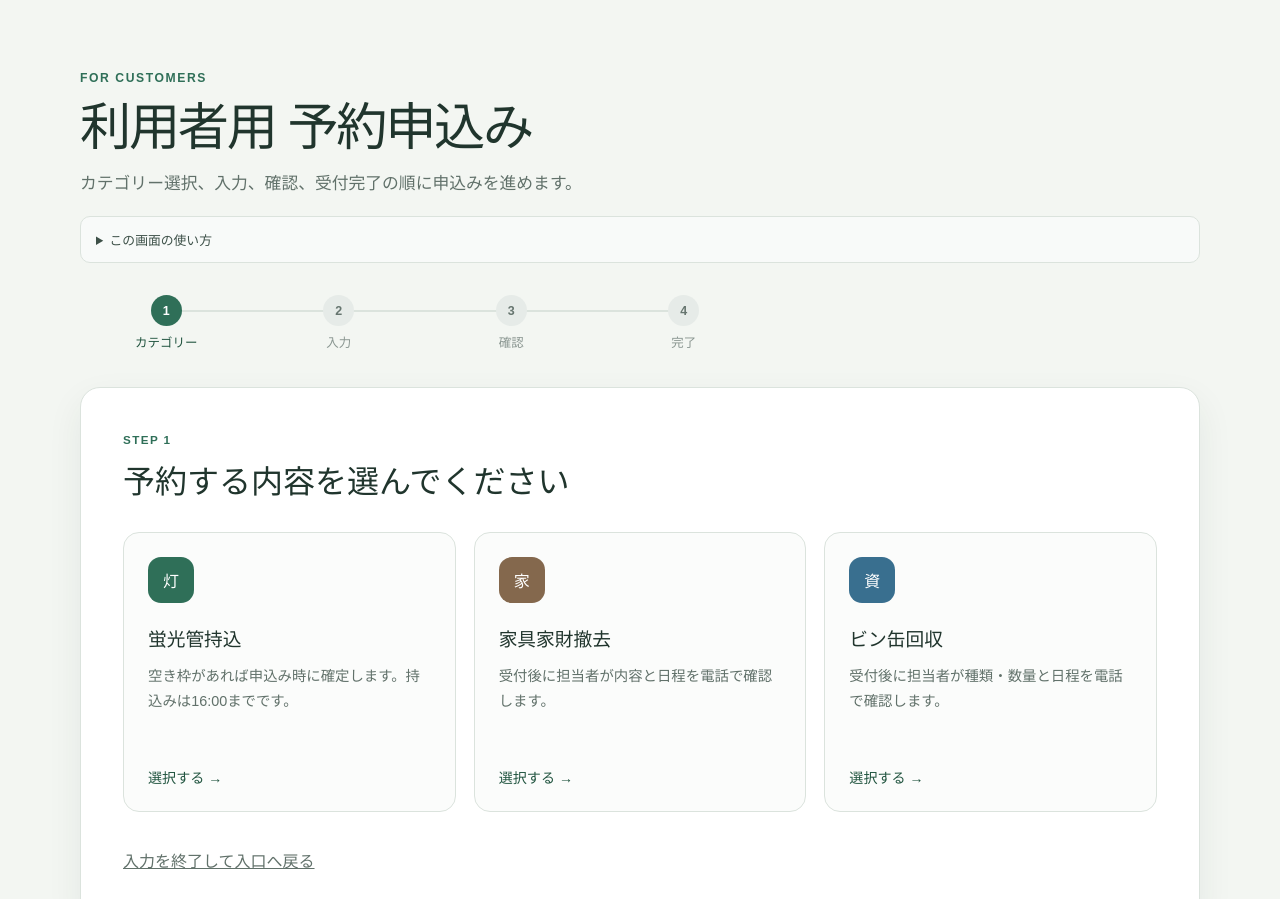
利用者予約画面 › 3カテゴリーを表示し、選択後に入力画面と予約カレンダーを表示する
The image size is (1280, 899).
Expected: the button "家 家具家財撤去 受付後に担当者が内容と日程を電話で確認します。 選択する →" is shown, x1=474 y1=532 x2=806 y2=812
Expected: the button "資 ビン缶回収 受付後に担当者が種類・数量と日程を電話で確認します。 選択する →" is shown, x1=824 y1=532 x2=1157 y2=812
Step 1. Click the button "灯 蛍光管持込 空き枠があれば申込み時に確定します。持込みは16:00までです。 選択する →" → x=289, y=672, box x1=123 y1=532 x2=456 y2=812
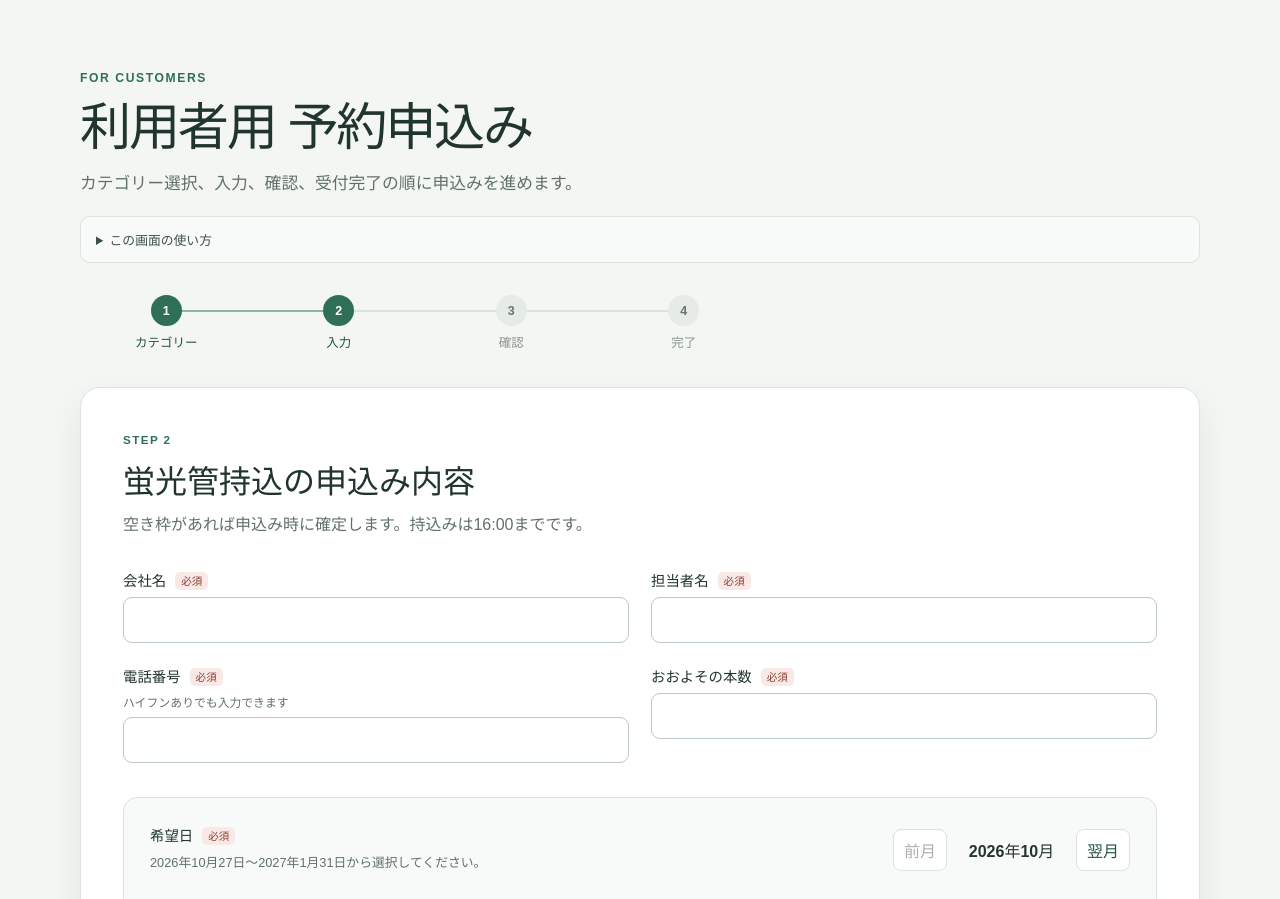
Now the heading "蛍光管持込の申込み内容" is shown, box x1=123 y1=464 x2=475 y2=500
Now the number field labelled "おおよその本数 必須" is shown, box x1=651 y1=693 x2=1157 y2=739
